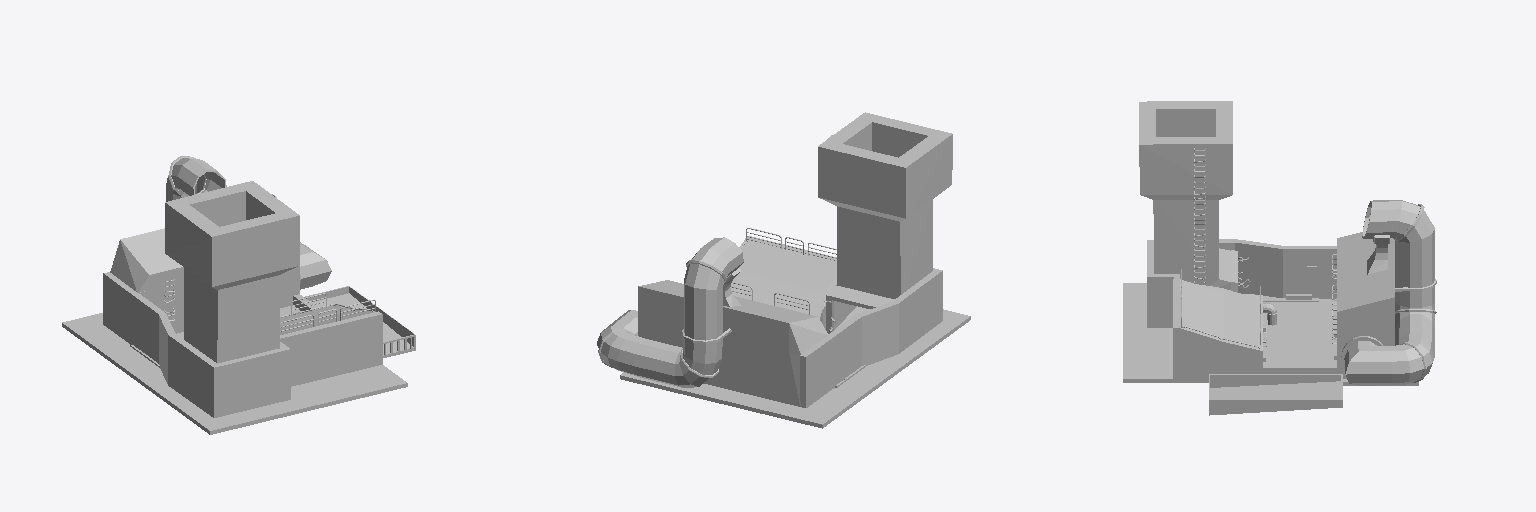
The model's file is corridor_new.obj.
The picture shows the model from 3 angles: view 1: azimuth 30°, elevation 25°; view 2: azimuth 150°, elevation 25°; view 3: azimuth 270°, elevation 25°; orthographic projection.
Parts seen in each view (by area): view 1: polySurface62 Object02, h polySurface2, Object03, polySurface1 h, h polySurface39, Line01, Box01, h polySurface38, h polySurface17; view 2: polySurface62 Object02, Line01, polySurface1 h, Object03, h polySurface39, h polySurface17, h polySurface38; view 3: polySurface62 Object02, Line01, h polySurface17, Object03, Box01, polySurface1 h, h polySurface39, h polySurface2, h polySurface7, h polySurface38, h polySurface3.
Boxes of the visible parts, x1,y1,x2,y2 form: polySurface62 Object02: [165, 181, 299, 363]; h polySurface2: [214, 311, 382, 417]; Object03: [62, 313, 407, 434]; polySurface1 h: [103, 272, 220, 417]; h polySurface39: [110, 228, 183, 292]; Line01: [166, 158, 331, 289]; Box01: [304, 286, 415, 357]; h polySurface38: [135, 258, 299, 333]; h polySurface17: [280, 305, 374, 334]; polySurface62 Object02: [818, 112, 952, 333]; Line01: [597, 237, 743, 387]; polySurface1 h: [800, 269, 942, 407]; Object03: [620, 309, 970, 428]; h polySurface39: [638, 280, 827, 354]; h polySurface17: [730, 239, 836, 329]; h polySurface38: [638, 316, 828, 406]; polySurface62 Object02: [1139, 101, 1237, 292]; Line01: [1344, 200, 1434, 385]; h polySurface17: [1180, 279, 1262, 378]; Object03: [1123, 283, 1418, 385]; Box01: [1209, 374, 1342, 415]; polySurface1 h: [1147, 239, 1336, 298]; h polySurface39: [1337, 232, 1394, 326]; h polySurface2: [1147, 243, 1180, 378]; h polySurface7: [1319, 299, 1336, 363]; h polySurface38: [1337, 327, 1394, 378]; h polySurface3: [1263, 364, 1336, 373].
Size of the model in its own units: 15.06 by 11.44 by 16.48.